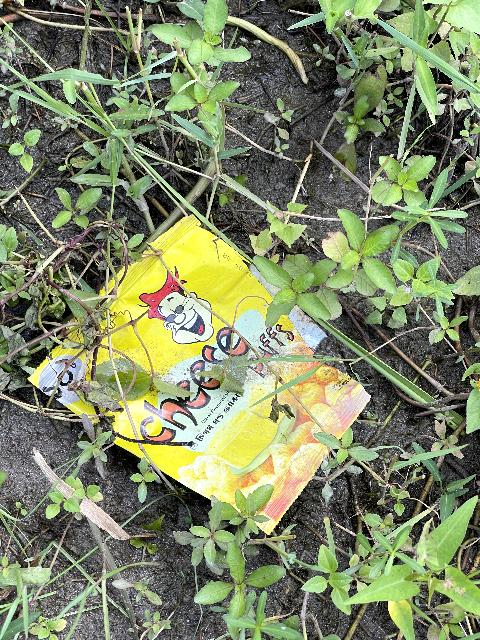packet: (44, 208, 369, 511)
